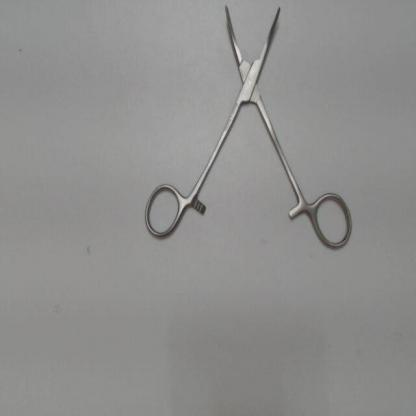Crile Artery Forceps: (138, 2, 355, 258)
